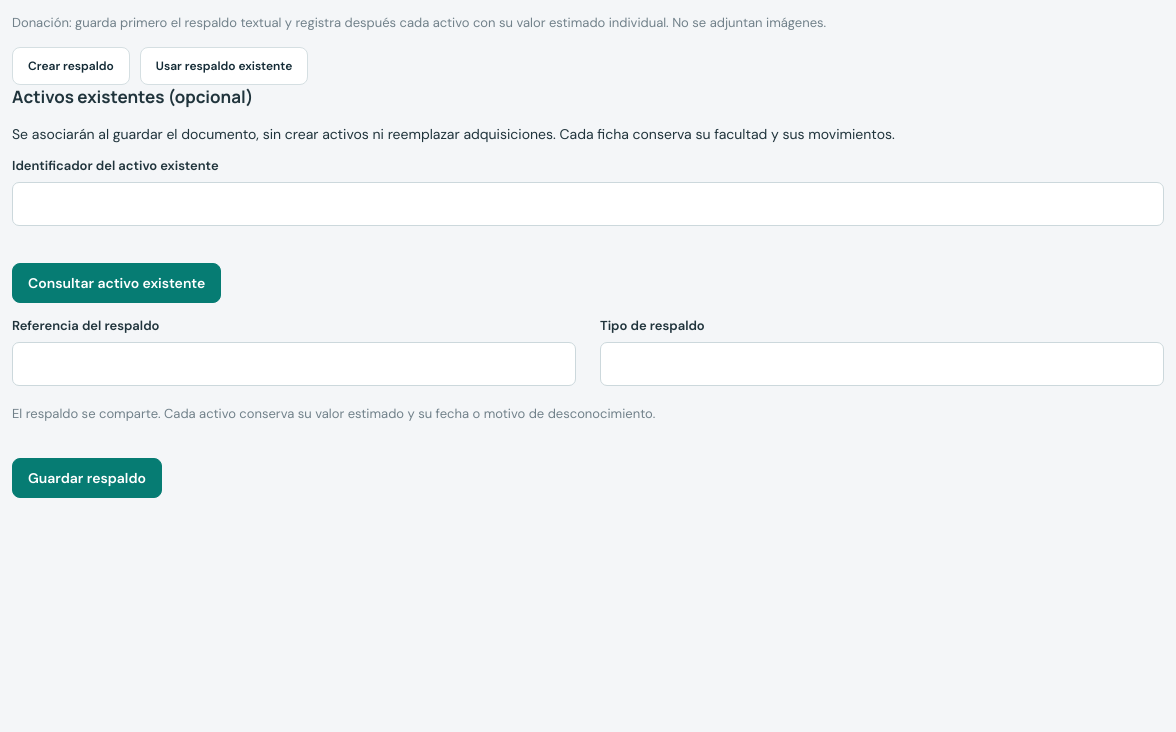
Test case: rechazo del respaldo conserva datos y muestra error junto al campo
In the field labelled "Referencia del respaldo": [294, 364] box [12,342,576,386], type "TEST-ACTA"
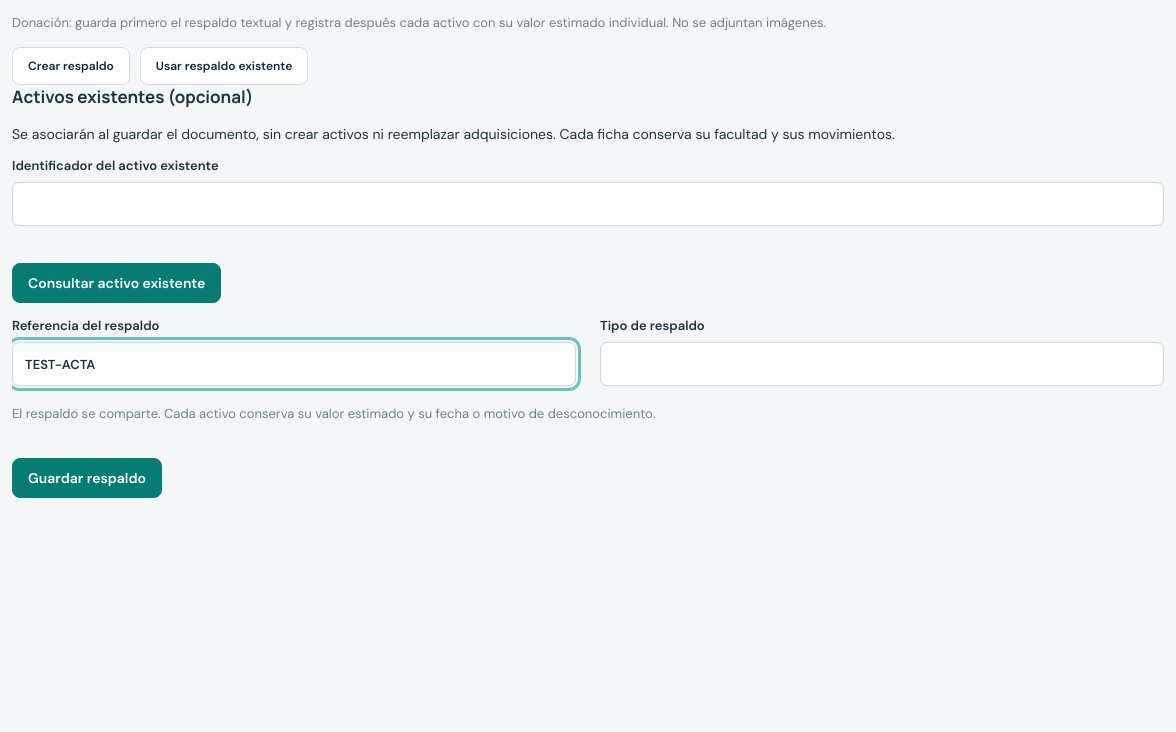
In the field labelled "Tipo de respaldo": [882, 364] box [600,342,1164,386], type "Acta ficticia"
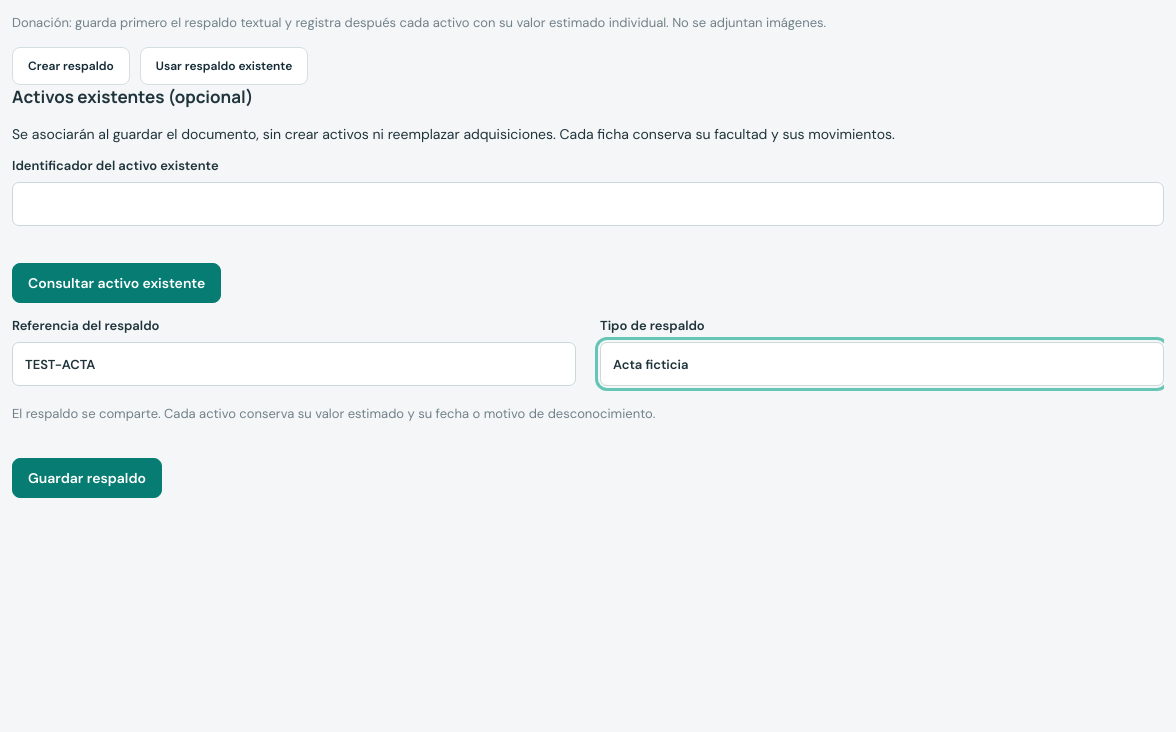
Click the button "Guardar respaldo": [87, 478] box [12,458,162,498]
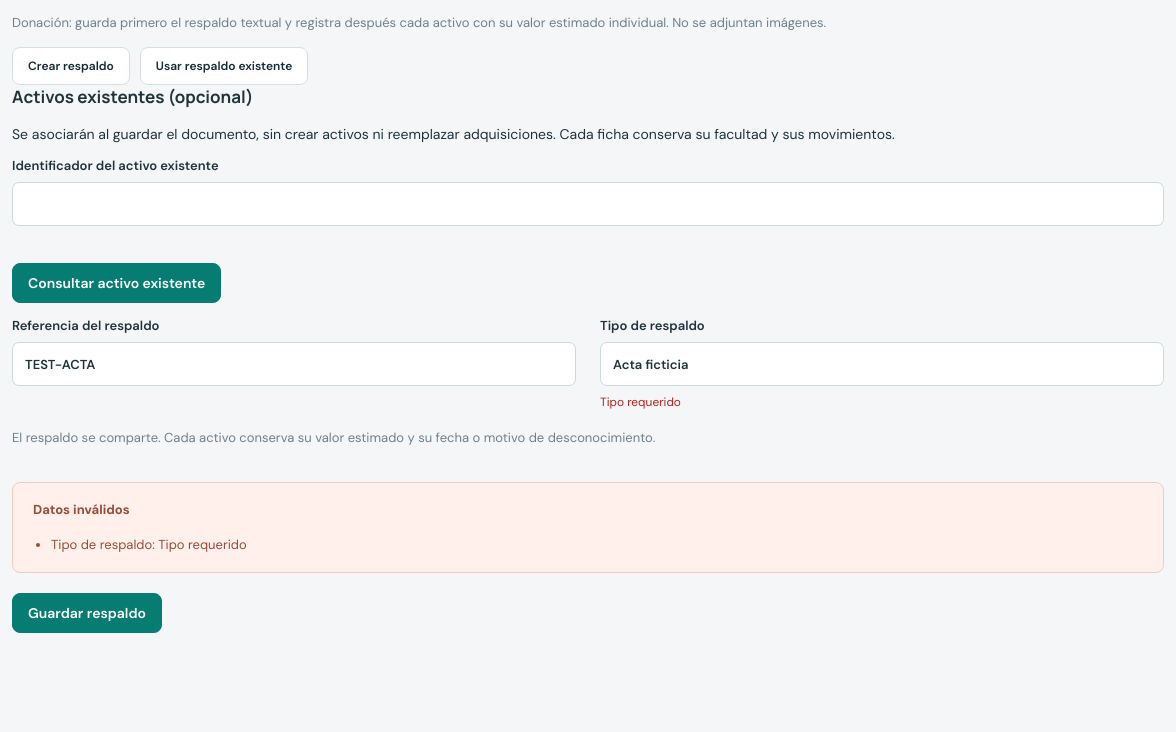
expect the message shows "Tipo requerido": met, box [158,536,247,553]
